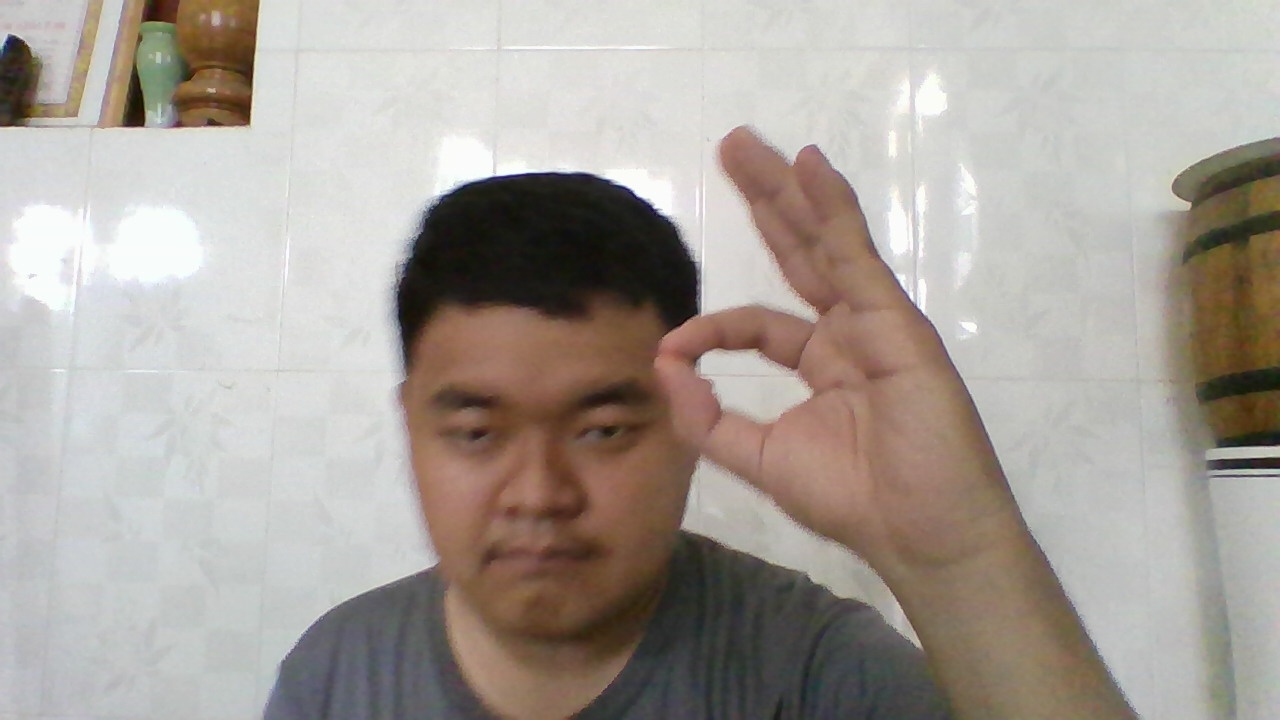T: (648, 121, 951, 559)
